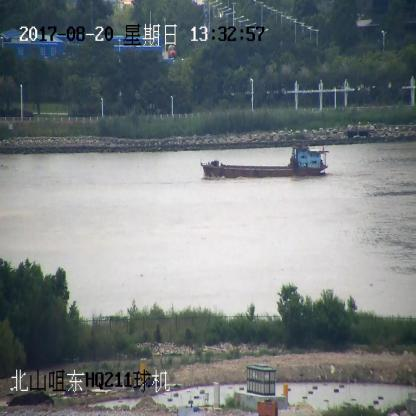Bulk Carrier: (199, 145, 328, 179)
